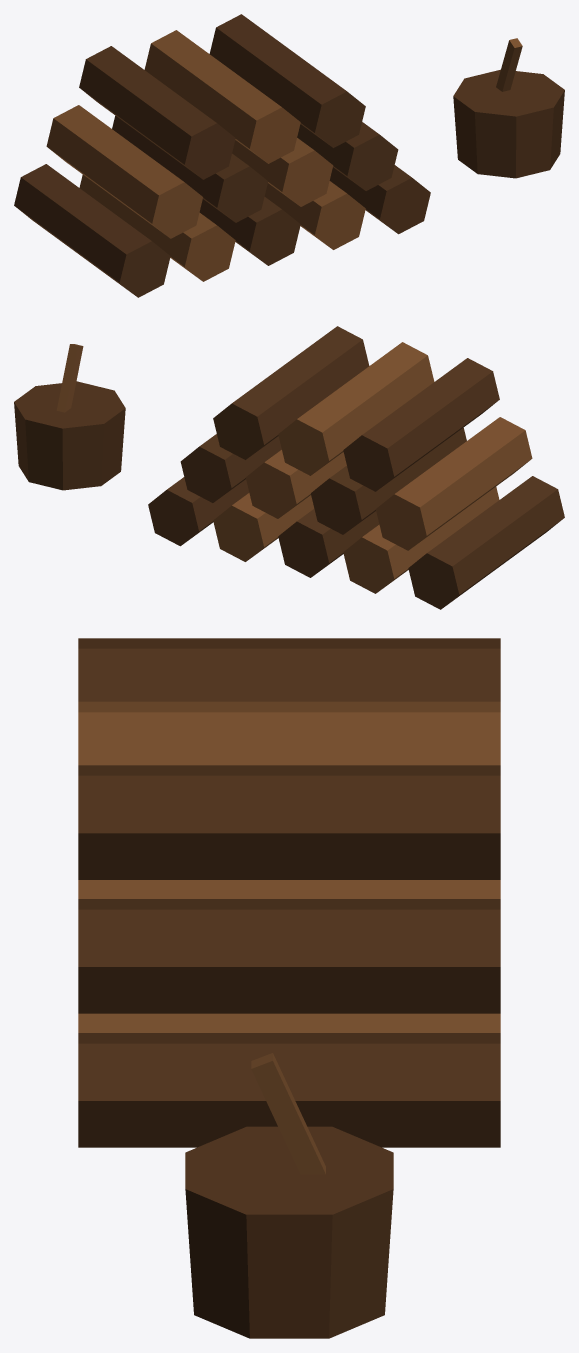
Rendered from woodpile_broken.glb.
3 renders of one model, top to bottom at view 1: azimuth 30°, elevation 25°; view 2: azimuth 150°, elevation 25°; view 3: azimuth 270°, elevation 25°, orthographic. The views are drawn at different scales.
Visible parts, largest first — view 1: woodpile_piece5, woodpile_piece7, woodpile_piece2, woodpile_piece4, woodpile_piece0, woodpile_piece3, woodpile_piece6; view 2: woodpile_piece3, woodpile_piece5, woodpile_piece2, woodpile_piece4, woodpile_piece1, woodpile_piece7, woodpile_piece6, woodpile_piece0; view 3: woodpile_piece2, woodpile_piece5, woodpile_piece1, woodpile_piece3, woodpile_piece4, woodpile_piece6, woodpile_piece7.
Part boxes in pixels (x1,y1,x2,y2): woodpile_piece5: (14,46,240,272); woodpile_piece7: (222,83,367,268); woodpile_piece2: (329,38,564,241); woodpile_piece4: (101,53,335,280); woodpile_piece0: (114,182,237,297); woodpile_piece3: (26,14,277,226); woodpile_piece6: (232,41,300,165); woodpile_piece3: (193,376,454,609); woodpile_piece5: (325,367,546,599); woodpile_piece2: (14,344,249,546); woodpile_piece4: (286,334,561,552); woodpile_piece1: (148,406,466,562); woodpile_piece7: (276,326,369,539); woodpile_piece6: (268,364,324,454); woodpile_piece0: (266,427,564,546); woodpile_piece2: (78,904,500,1338); woodpile_piece5: (95,638,500,765); woodpile_piece1: (323,796,500,1101); woodpile_piece3: (321,664,500,926); woodpile_piece4: (78,638,310,836); woodpile_piece6: (194,765,377,987); woodpile_piece7: (78,751,403,1032).
Bounding box in the file's own units: 2.4 × 0.7356 × 0.9.
